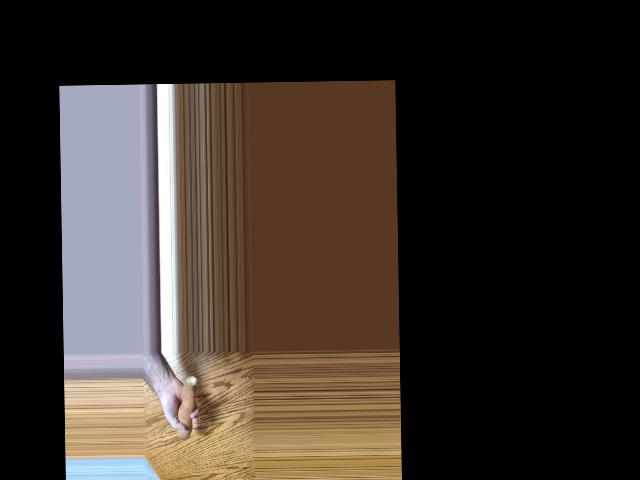sweet_potato: (173, 374, 196, 445)
